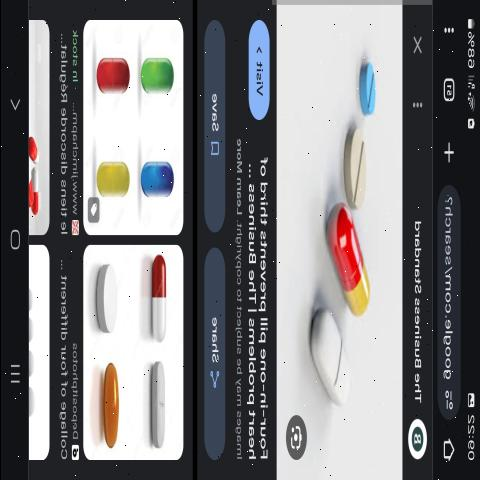Pill: (299, 284, 356, 411), (336, 120, 374, 220), (141, 250, 173, 346), (352, 38, 385, 125), (144, 356, 172, 458), (92, 260, 122, 340)
